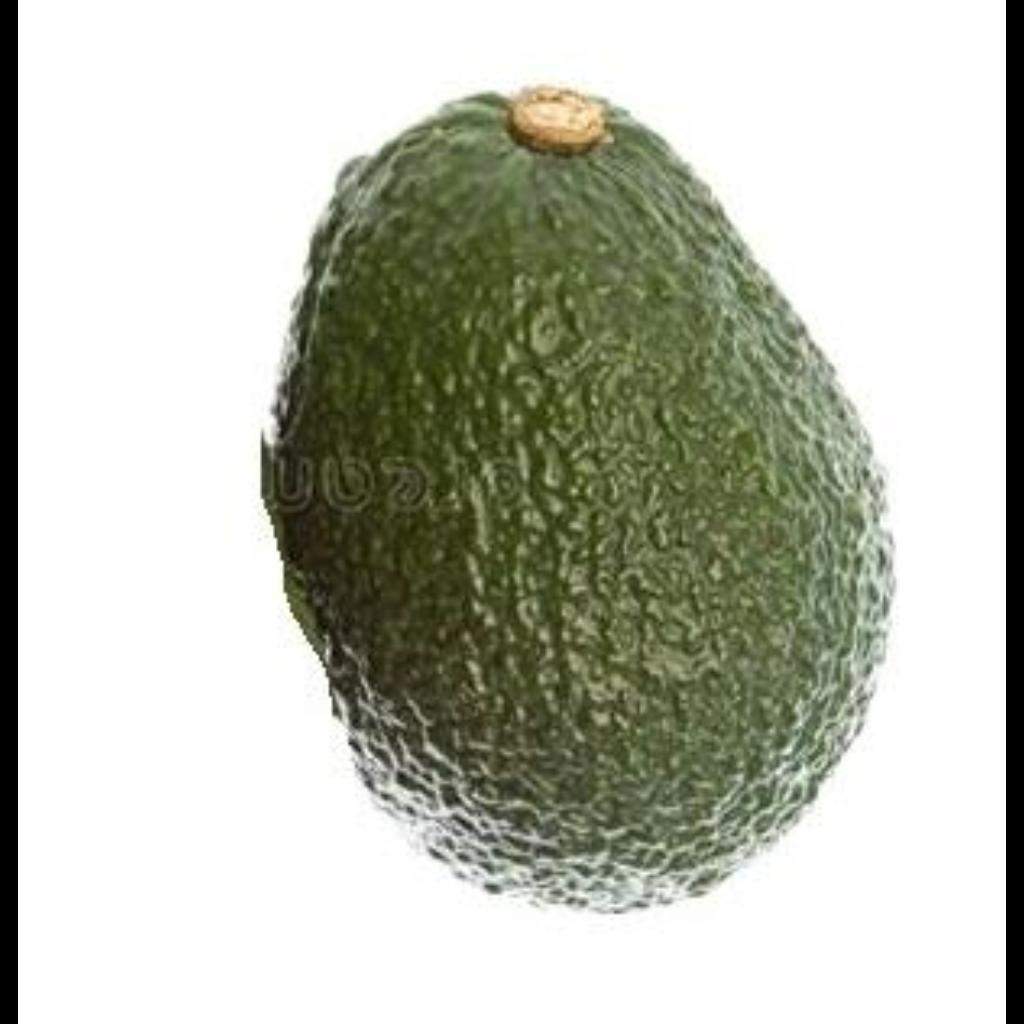fruto_sano: (229, 81, 903, 927)
